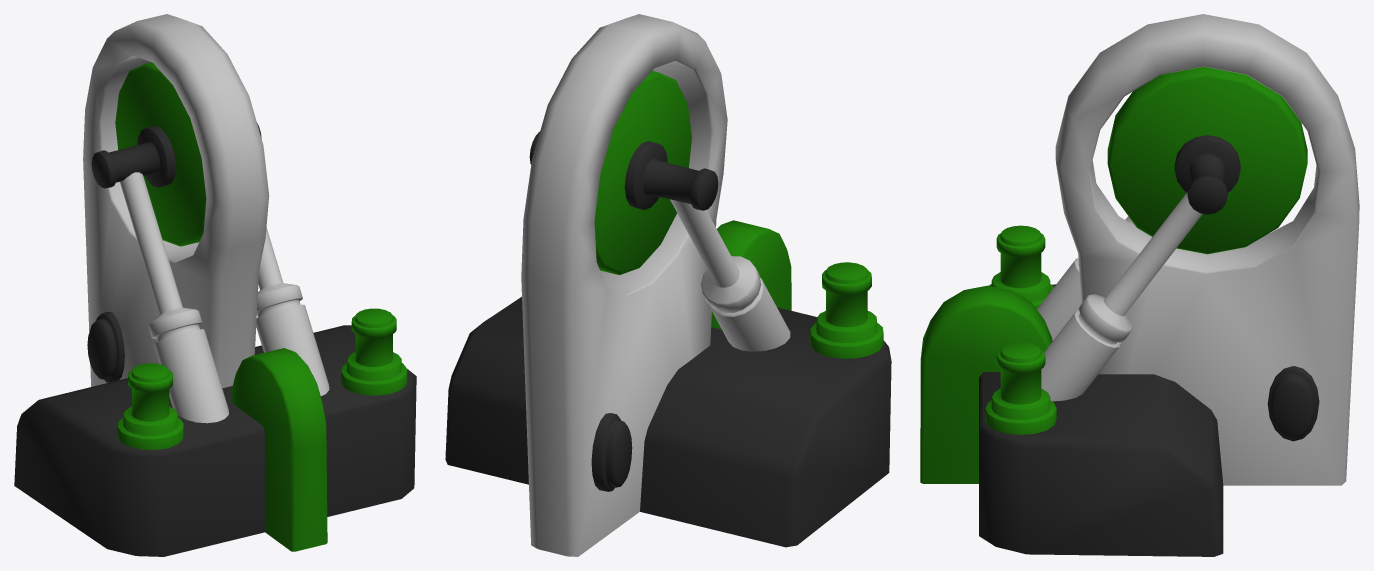
3 renders of one model, left to right at view 1: azimuth 30°, elevation 25°; view 2: azimuth 150°, elevation 25°; view 3: azimuth 270°, elevation 25°, orthographic. The views are drawn at different scales.
Visible parts, largest first — view 1: Geothermal_generator.002; view 2: Geothermal_generator.002; view 3: Geothermal_generator.002.
Boxes of the visible parts, x1=… form: Geothermal_generator.002: x1=14, y1=14, x2=416, y2=556; Geothermal_generator.002: x1=445, y1=14, x2=891, y2=556; Geothermal_generator.002: x1=920, y1=14, x2=1359, y2=556.
Bounding box in the file's own units: 4.17 × 5.33 × 4.68.
